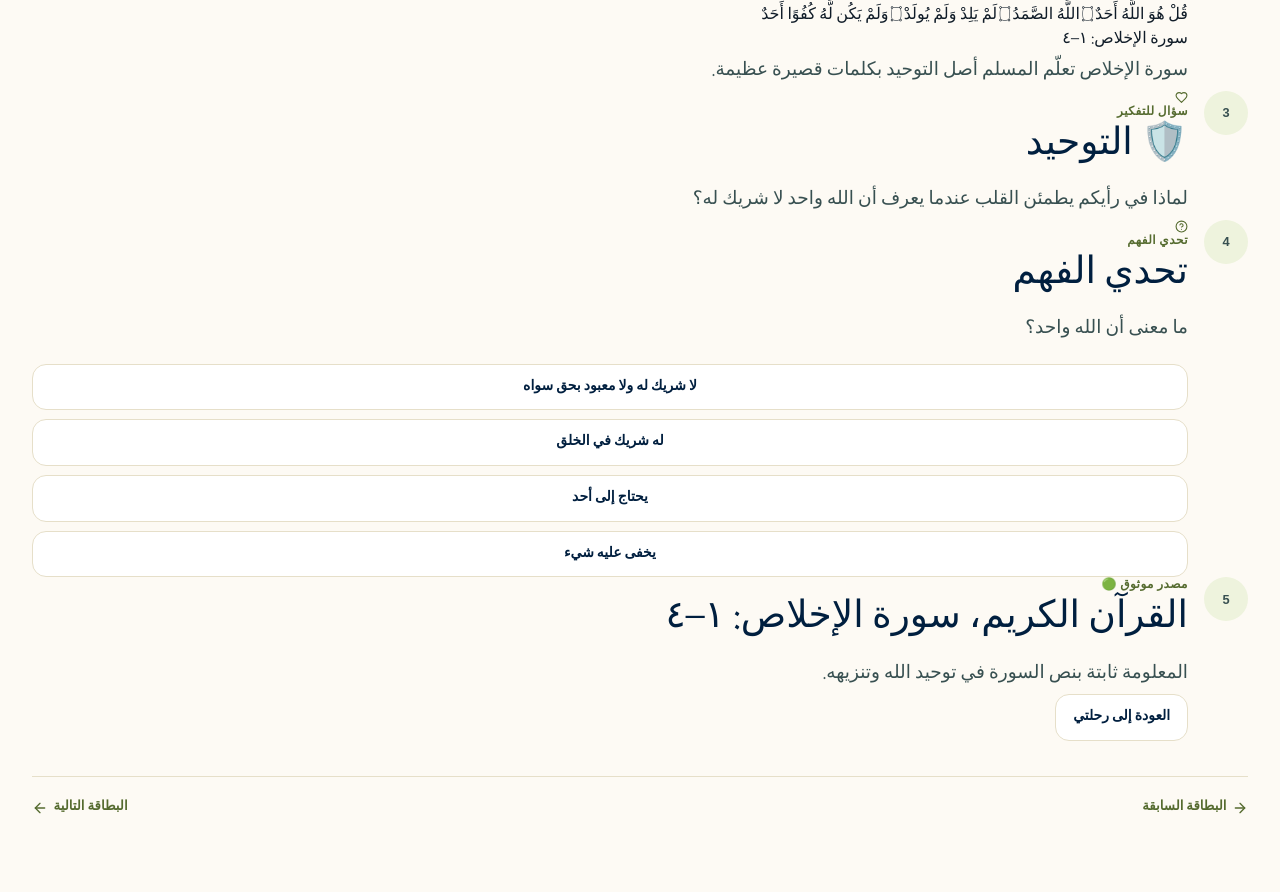
Test: answering a card › keeps the other options live after a wrong answer
(page scrolled)
Click the button "له شريك في الخلق" at (610, 443), box [32,419,1188,466]
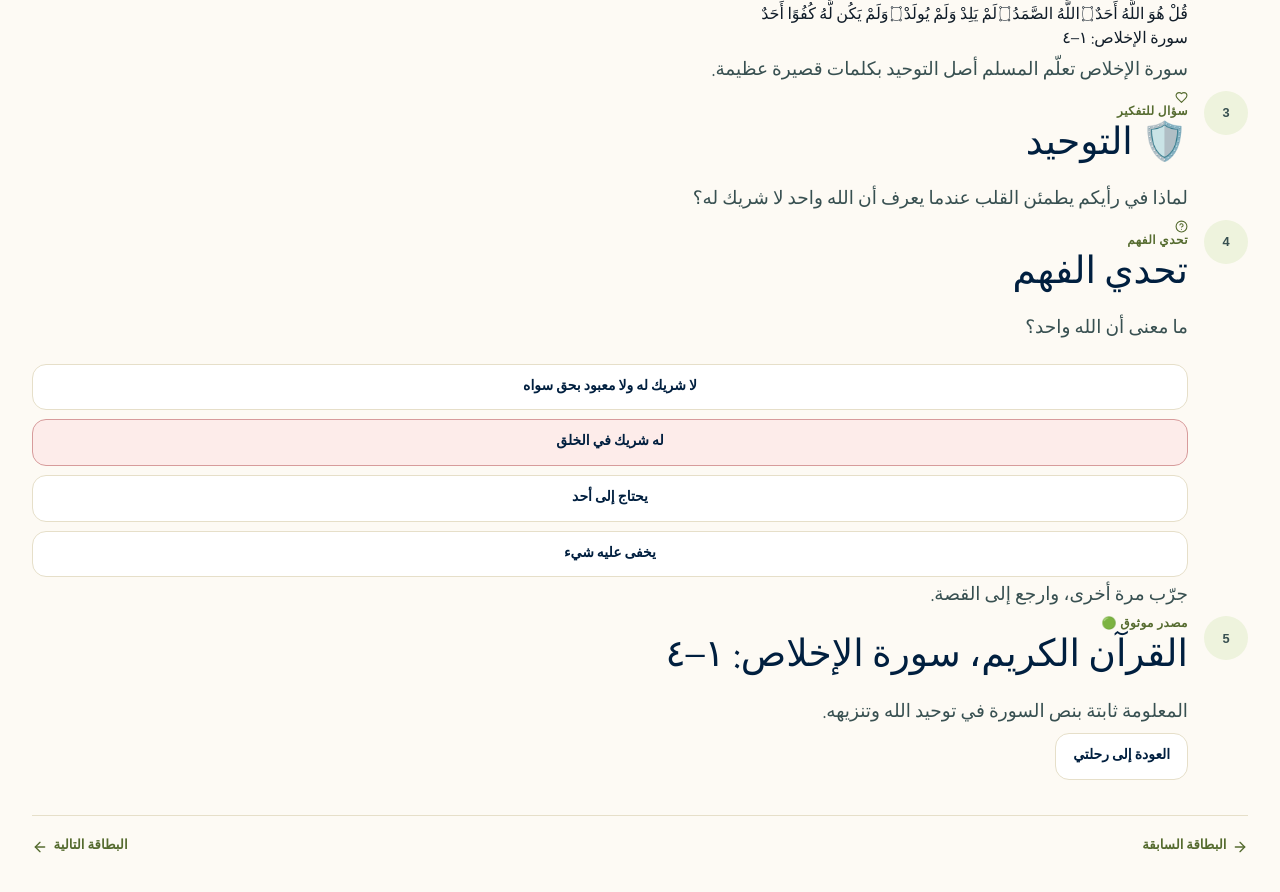
Expected: the button "له شريك في الخلق" is disabled, [32,419,1188,466]
